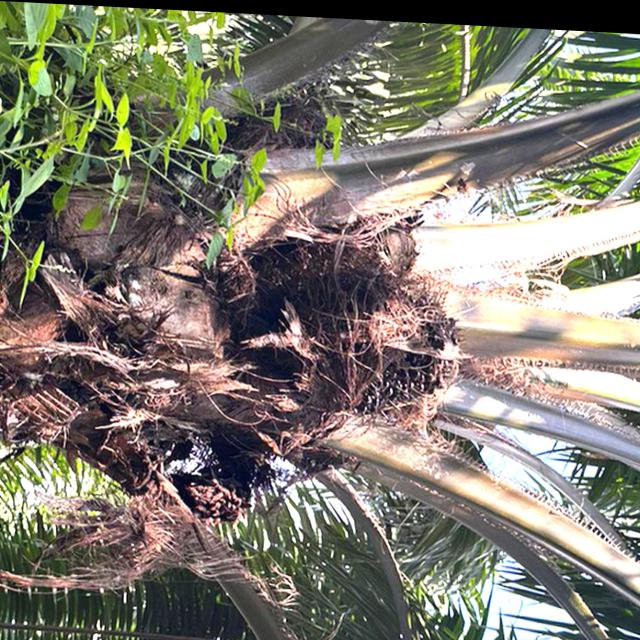ripe: (300, 267, 474, 432)
